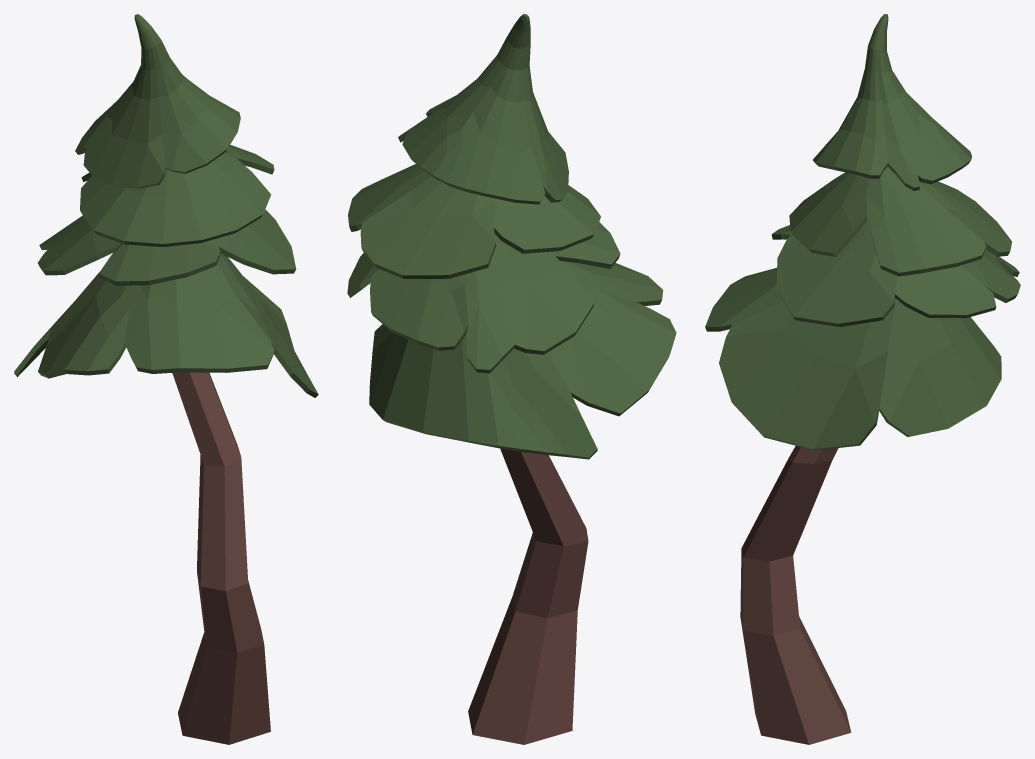
File: PineTree_4.gltf
3 renders of one model, left to right at view 1: azimuth 30°, elevation 25°; view 2: azimuth 150°, elevation 25°; view 3: azimuth 270°, elevation 25°, orthographic. The views are drawn at different scales.
Visible parts, largest first — view 1: PineTree_4; view 2: PineTree_4; view 3: PineTree_4.
Part boxes in pixels (box(x1,y1,x2,y2)): PineTree_4: box(14, 14, 318, 744); PineTree_4: box(347, 14, 676, 744); PineTree_4: box(705, 14, 1020, 744).
Bounding box in the file's own units: 1.25 × 3.34 × 1.39.
